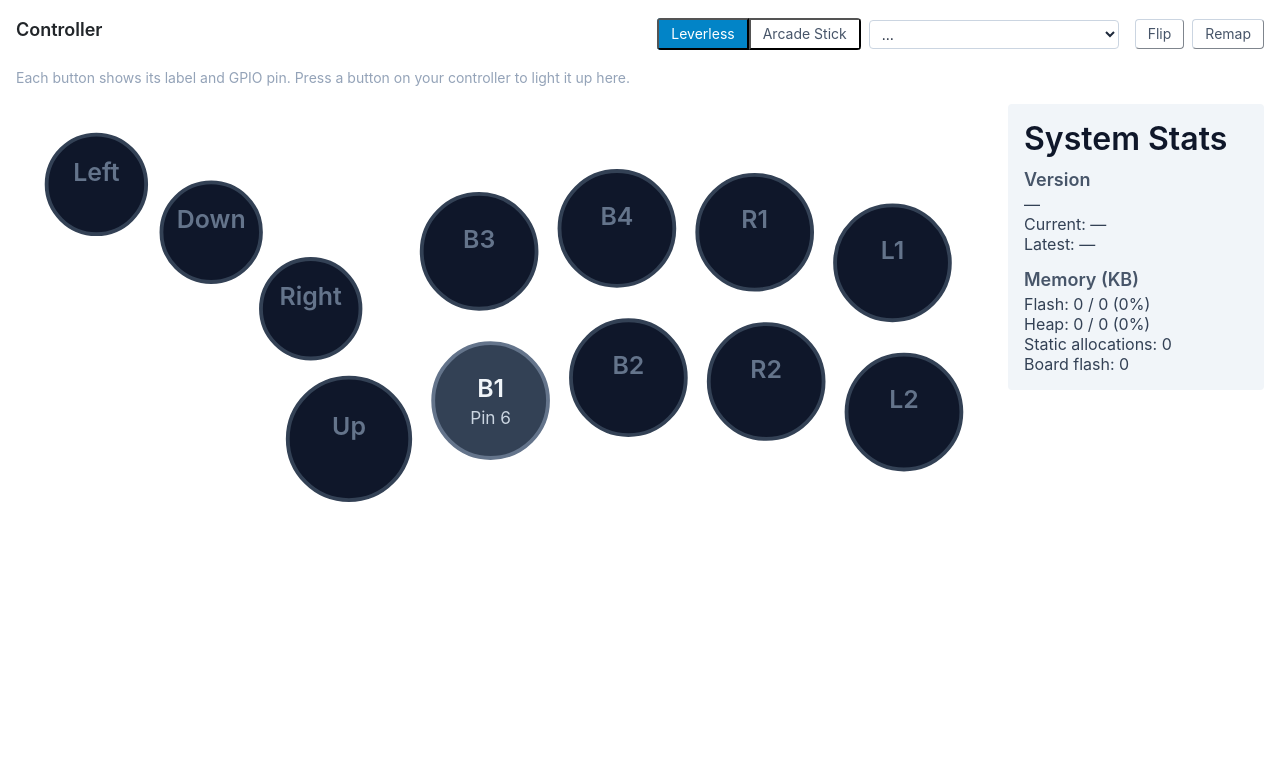
Test: ControllerViewPage › shows the profiles bar once remap mode is entered
Click the button with test id "remap-toggle": (1228, 34) [1192,19,1264,49]
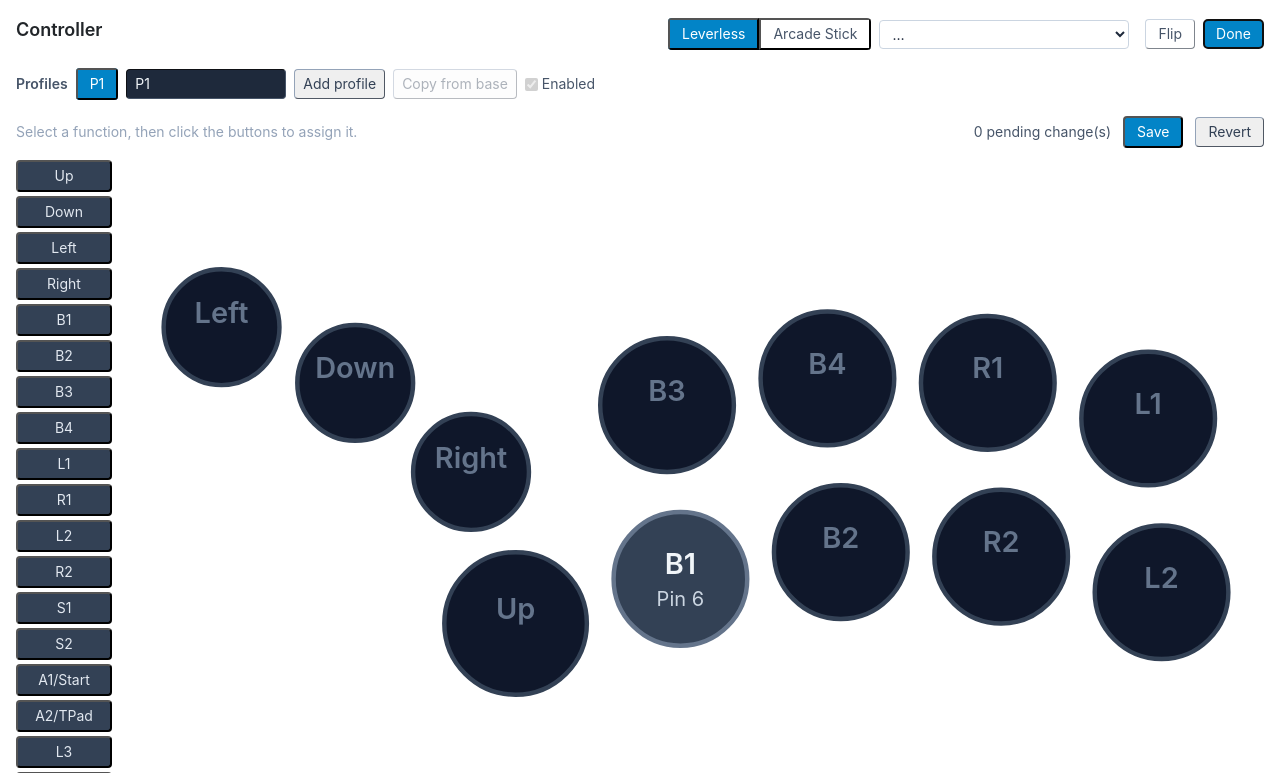
Result: the button with test id "profile-select-0" is shown at [76,68,118,100]
